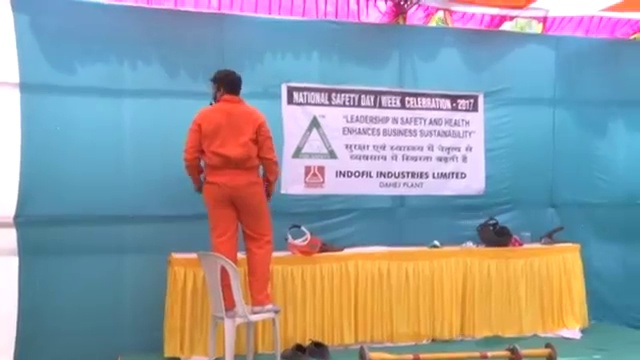helmet_off: (204, 64, 243, 107)
person: (179, 64, 283, 317)
